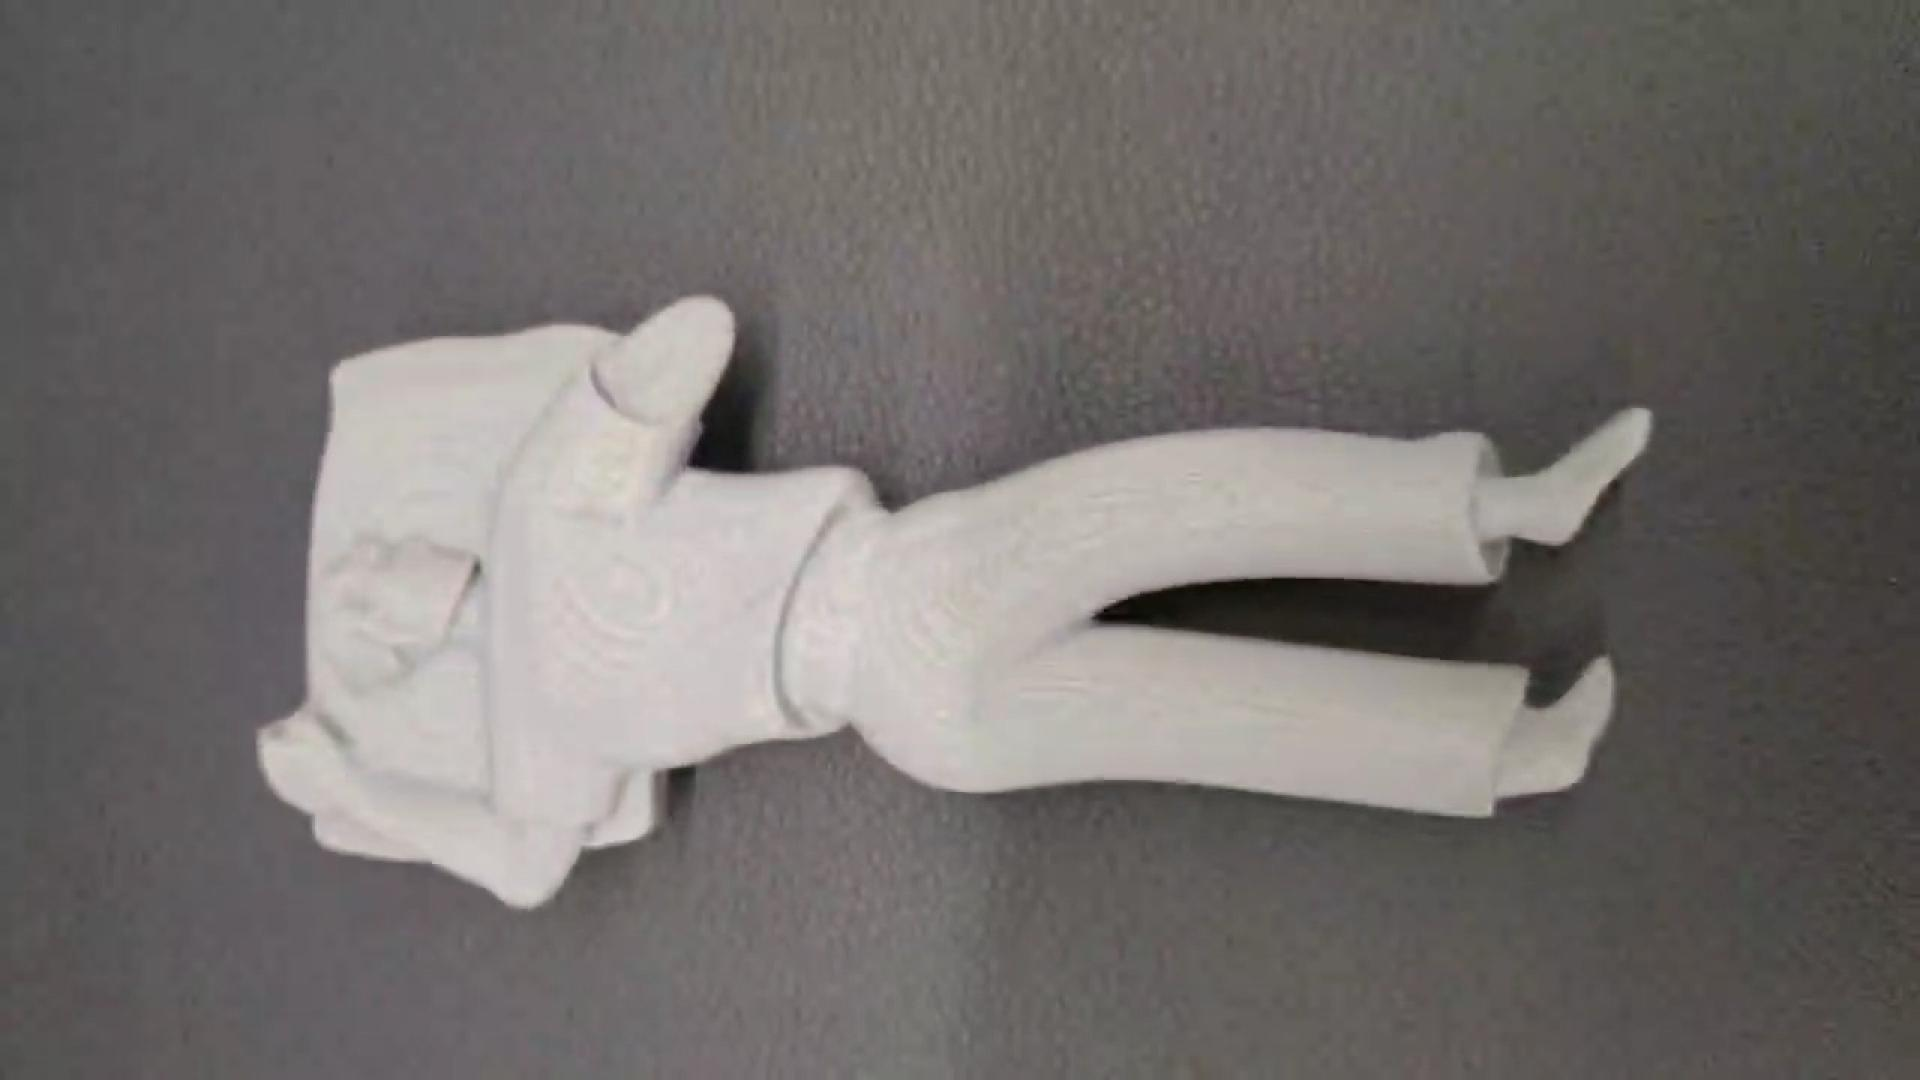Bad-style: (260, 281, 1655, 918)
